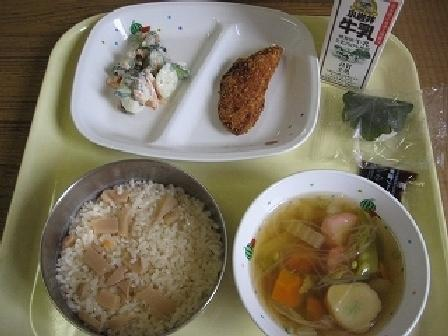Milk: (313, 3, 406, 93)
Mixed rice: (44, 153, 221, 329)
Salad: (86, 12, 192, 115)
cutlet: (209, 32, 293, 136)
vegetable soup: (239, 167, 422, 332)
